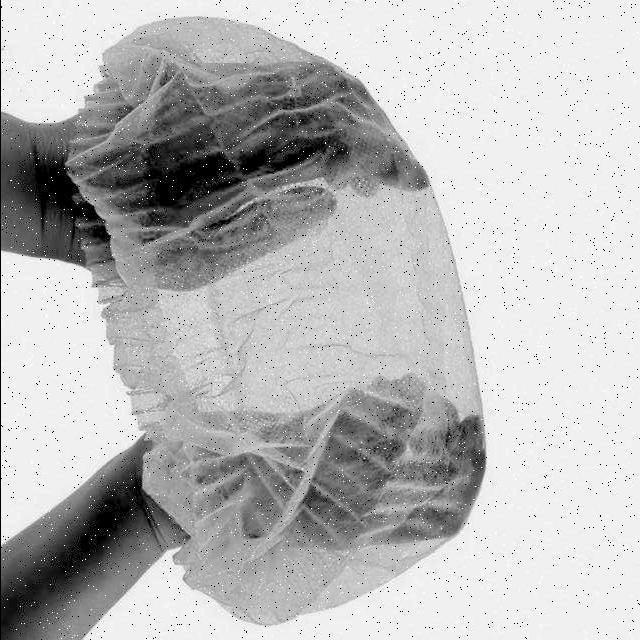gloves: (54, 21, 520, 626)
